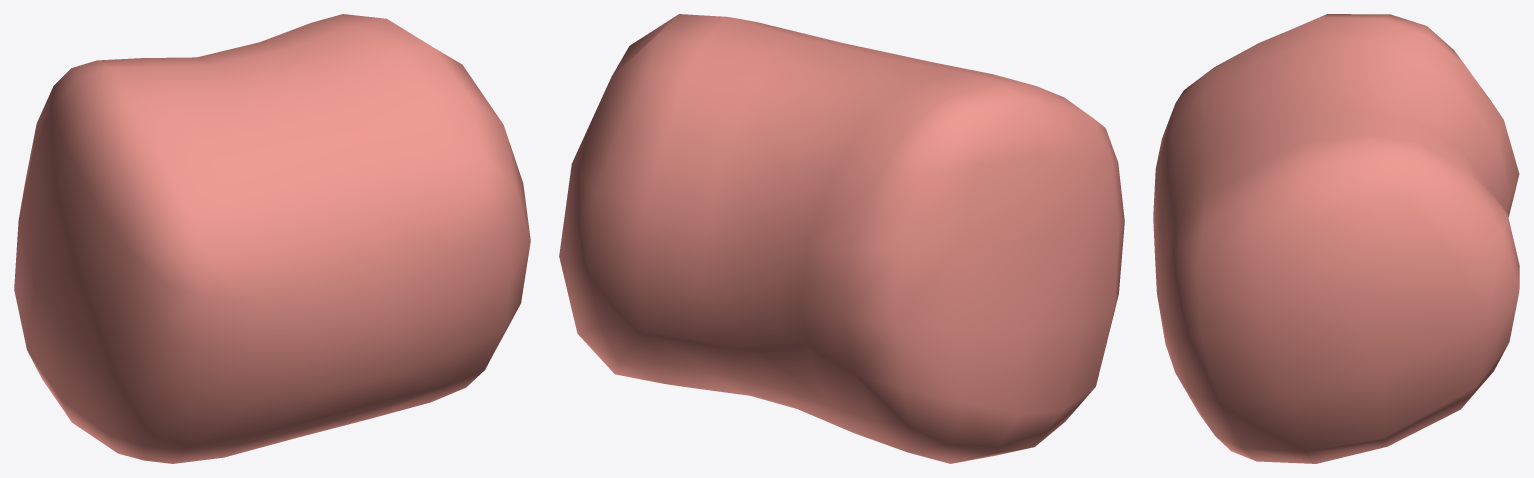
Rendered from mixamo_humanoid_surface_leftHandIndex2.fbx.
3 renders of one model, left to right at view 1: azimuth 30°, elevation 25°; view 2: azimuth 150°, elevation 25°; view 3: azimuth 270°, elevation 25°, orthographic. The views are drawn at different scales.
Visible parts, largest first — view 1: surface_LeftHandIndex2; view 2: surface_LeftHandIndex2; view 3: surface_LeftHandIndex2.
Boxes of the visible parts, <box> form: surface_LeftHandIndex2: <box>14,14,530,463</box>; surface_LeftHandIndex2: <box>559,14,1124,463</box>; surface_LeftHandIndex2: <box>1153,14,1519,463</box>.
Size of the model in its own units: 2.3 by 1.76 by 1.8.
